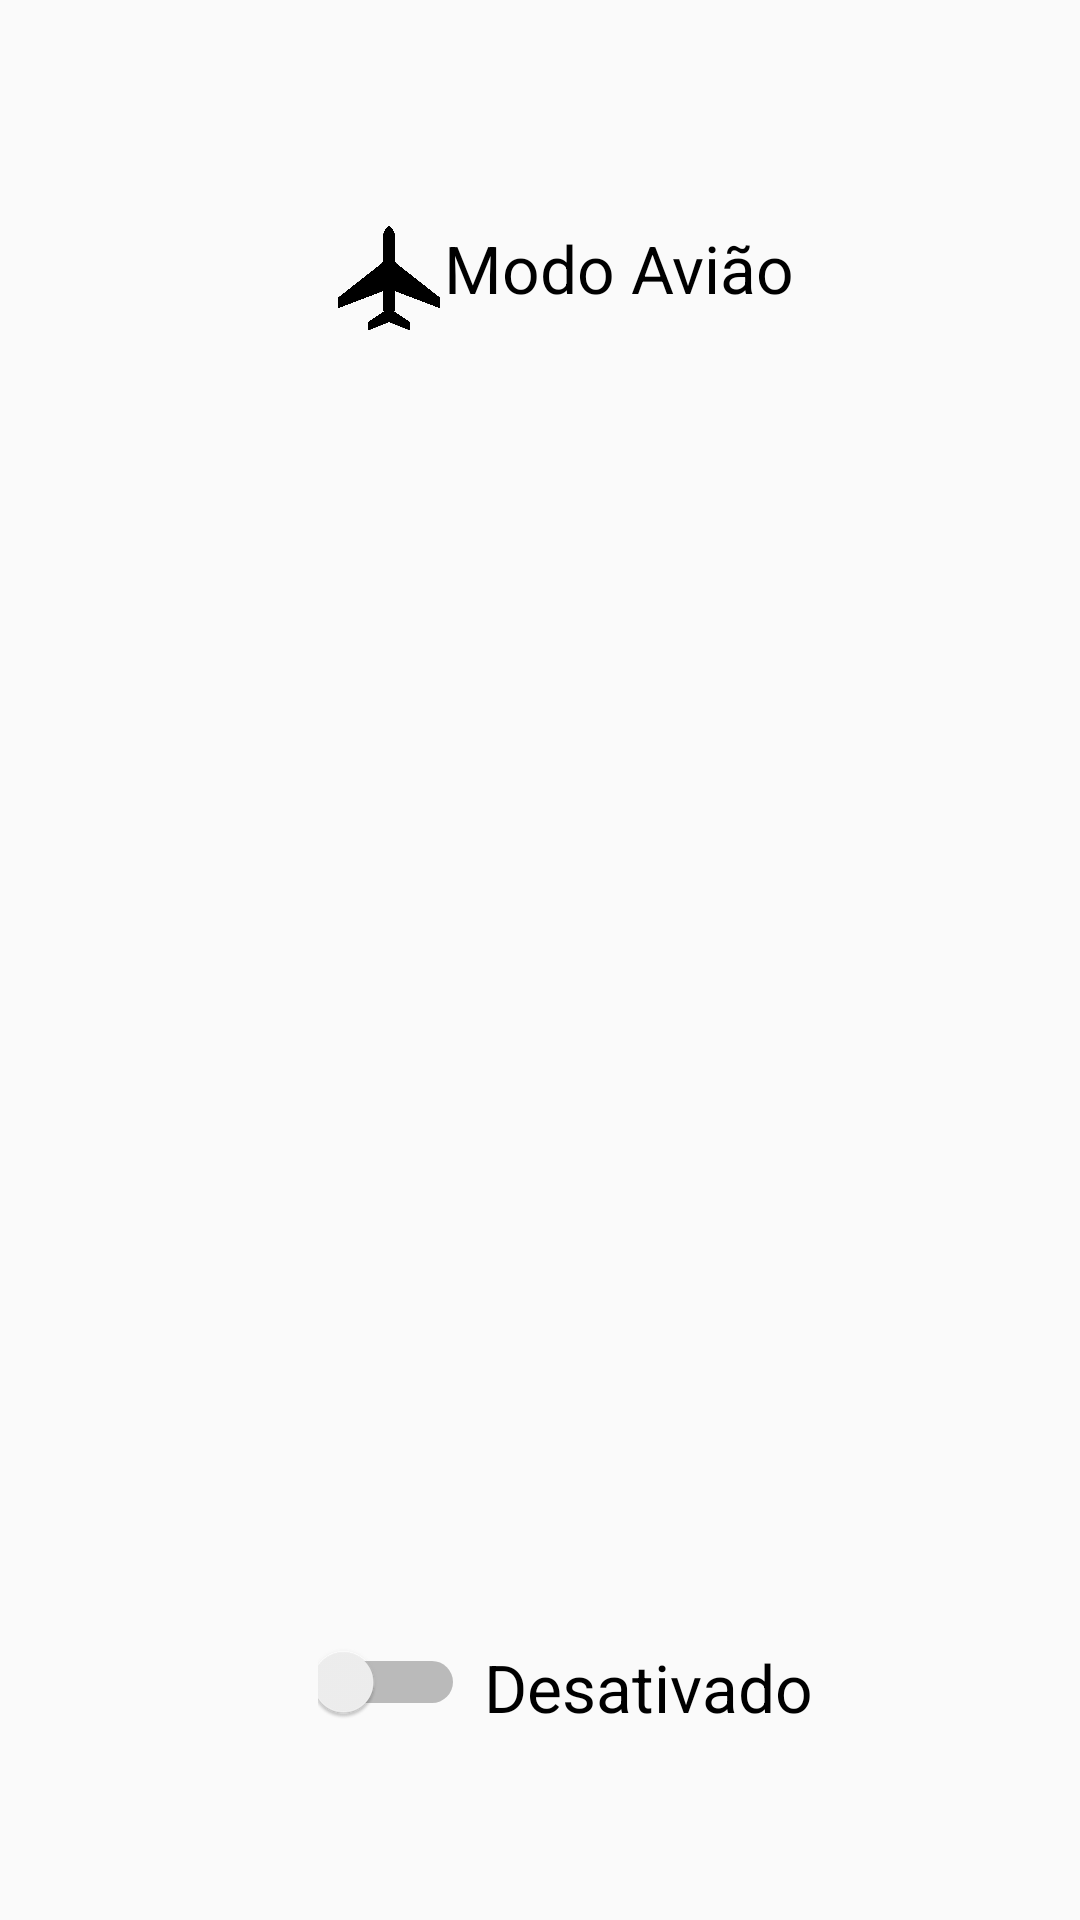

Icon click points for this 1080w x 1920h phone screenshot, format (x,y):
airplane: (389,278)
